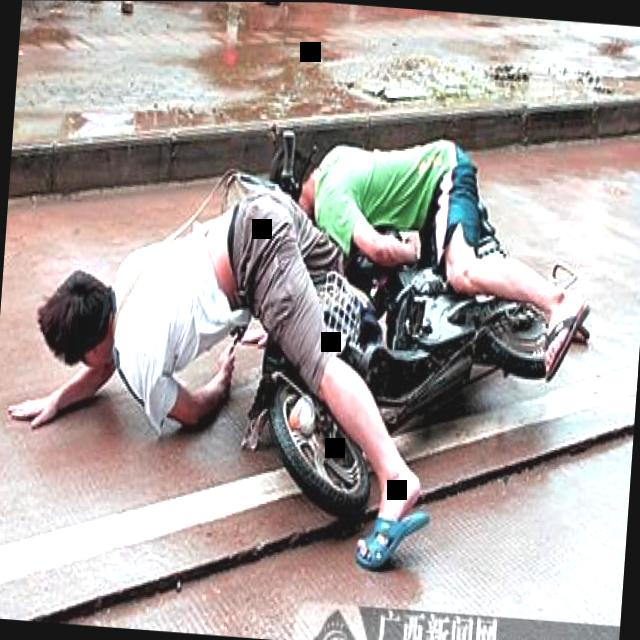Fall-Detected: (0, 155, 464, 540)
